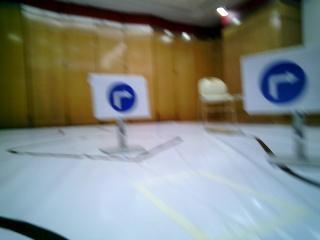right: (246, 55, 319, 109), (92, 72, 152, 117)
